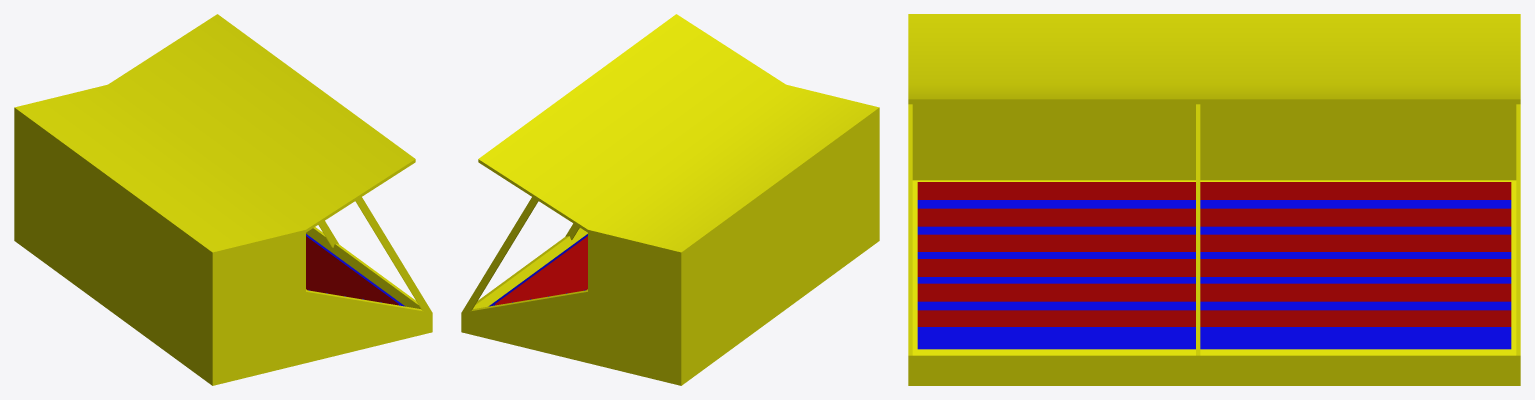
File: Stadium_Base.fbx
3 views of the same model, side by side, from view 1: azimuth 30°, elevation 25°; view 2: azimuth 150°, elevation 25°; view 3: azimuth 270°, elevation 25° (orthographic). The views are drawn at different scales.
Parts seen in each view (by area): view 1: Stadium_Base; view 2: Stadium_Base; view 3: Stadium_Base.
Boxes of the visible parts, box(x1,y1,x2,y2) form: Stadium_Base: box(14, 14, 432, 385); Stadium_Base: box(461, 14, 879, 385); Stadium_Base: box(908, 14, 1520, 385).
Bounding box in the file's own units: 147 × 113 × 230.
